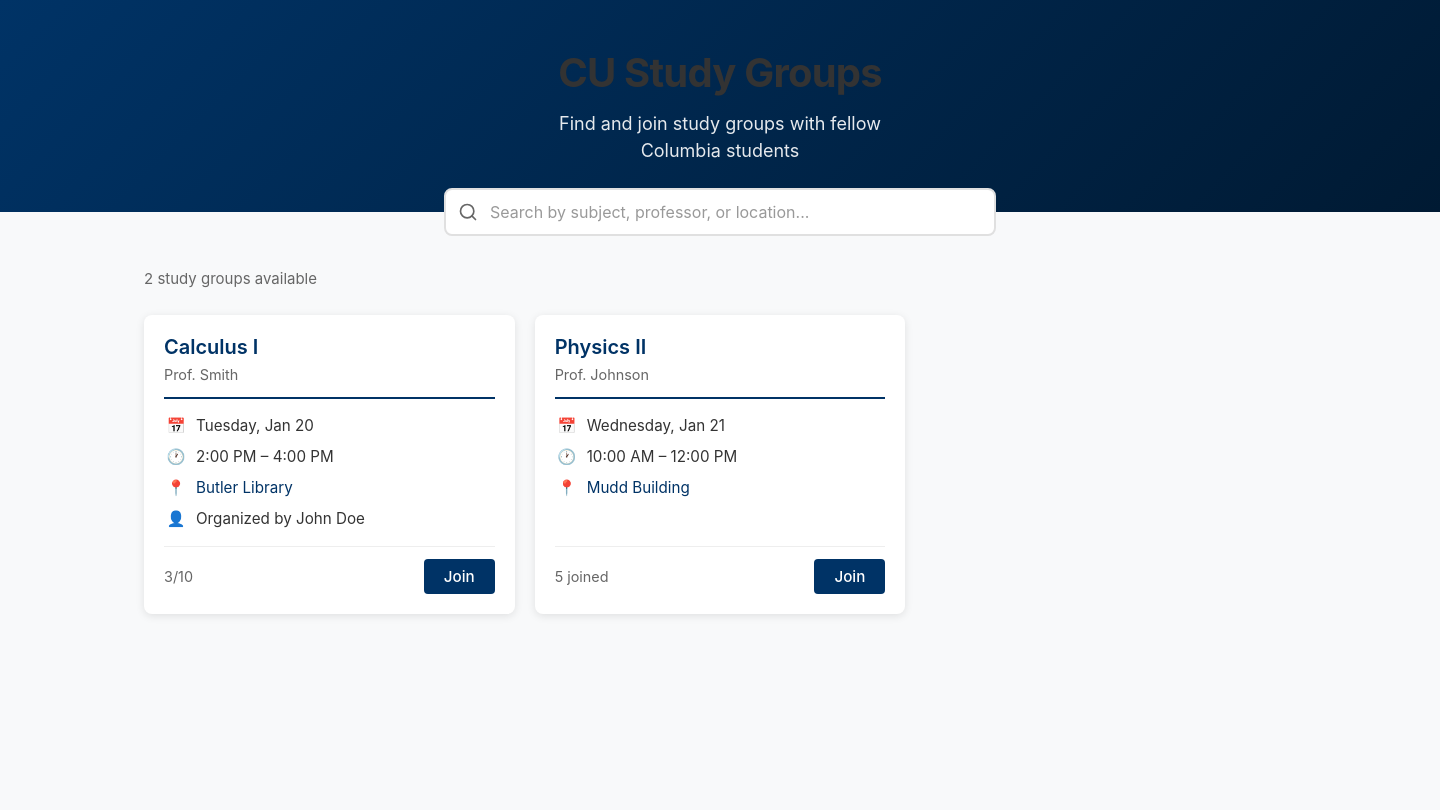
Test: HomePage › opens join modal when Join clicked
Click the button "Join" in the row of "3/10".
click(459, 577)  # box [424,559,495,594]
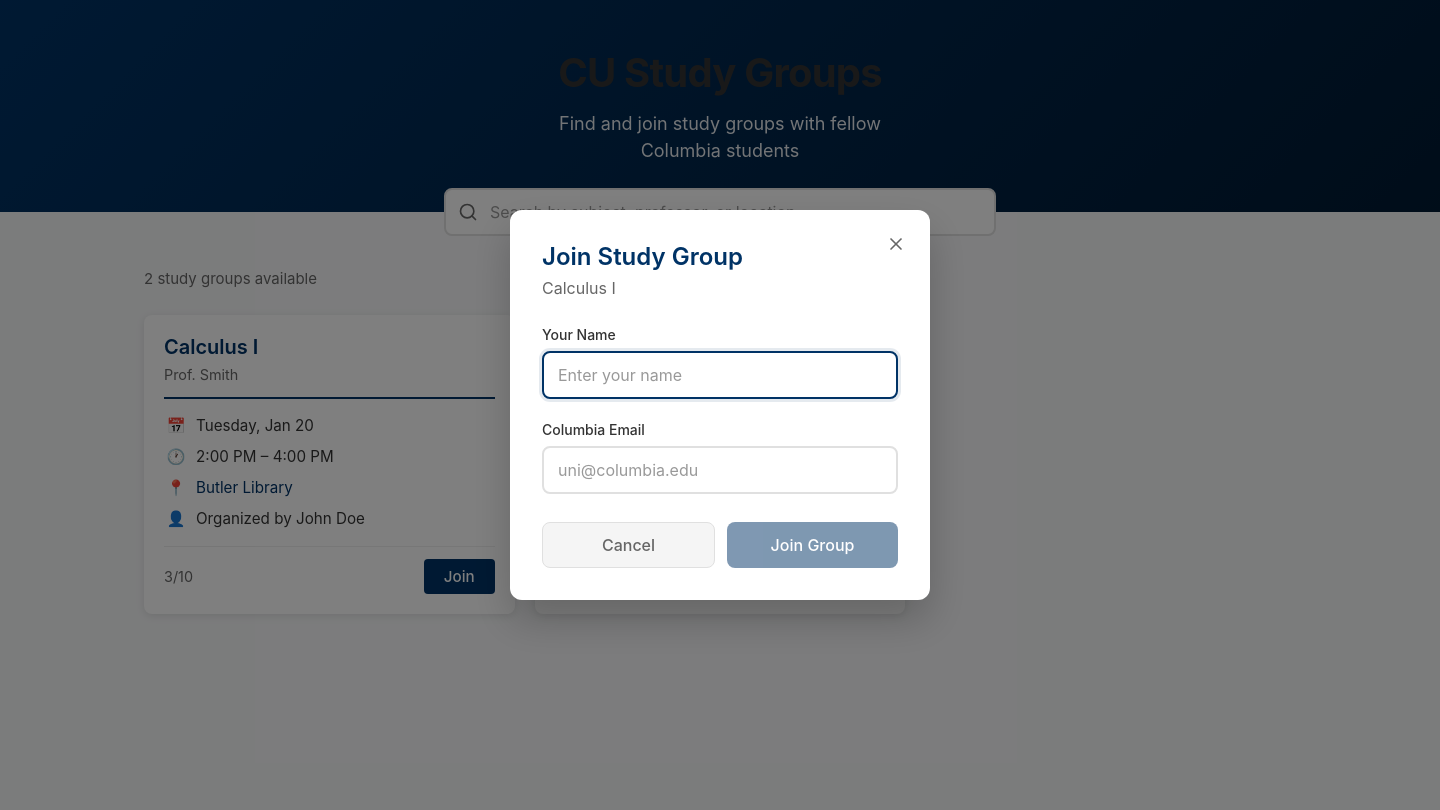
Expected: the heading "Join Study Group" is shown, [542,242,743,271]
Expected: the dialog is shown
